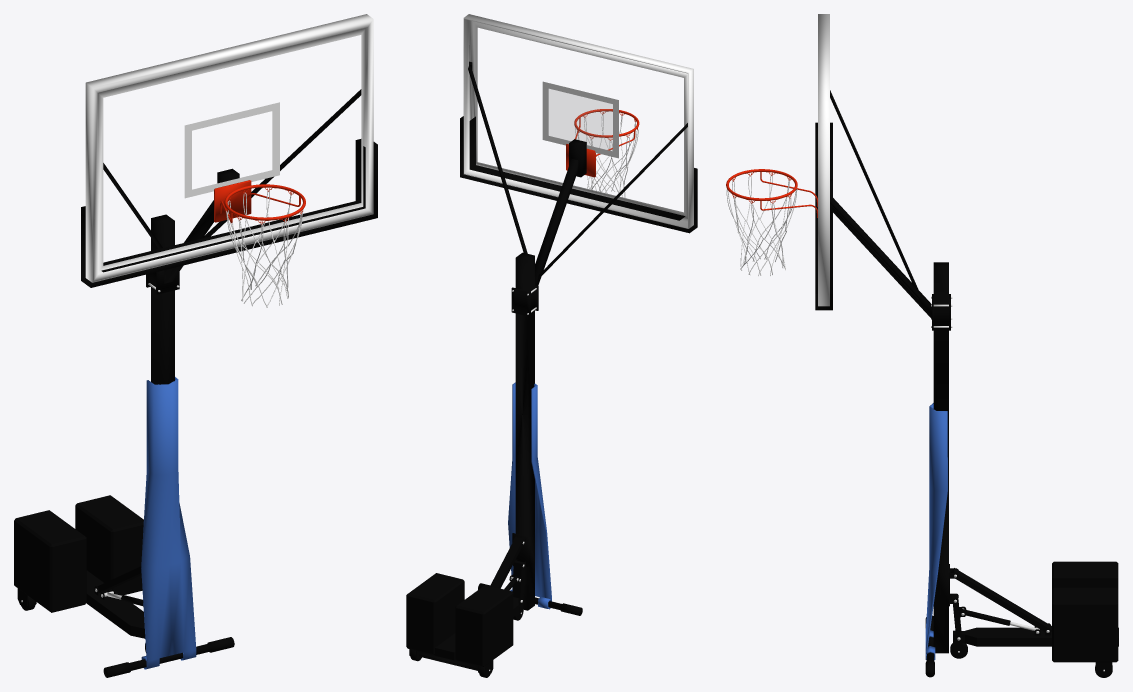
Rendered from RollaSport Portable Basketball Goal.glb.
The picture shows the model from 3 angles, left to right: view 1: azimuth 30°, elevation 25°; view 2: azimuth 150°, elevation 25°; view 3: azimuth 270°, elevation 25°; orthographic projection. The views are drawn at different scales.
Visible parts, largest first — view 1: Basketball.018; view 2: Basketball.018; view 3: Basketball.018.
Part boxes in pixels (box(x1,y1,x2,y2)): Basketball.018: box(14, 14, 377, 677); Basketball.018: box(406, 14, 697, 677); Basketball.018: box(726, 14, 1118, 677).
Size of the model in its own units: 1.87 by 4.13 by 2.52.
